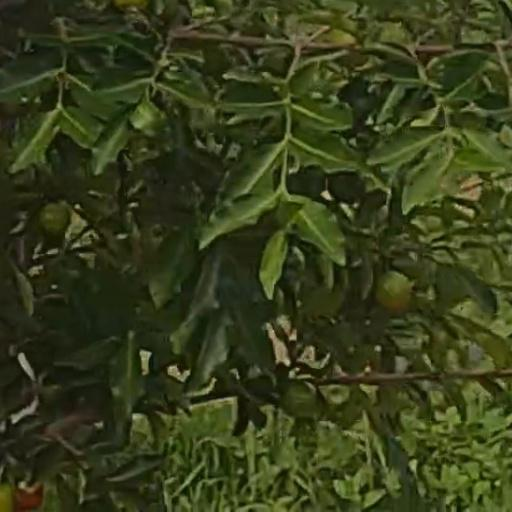acerola: (376, 271, 411, 311), (12, 478, 44, 510)
